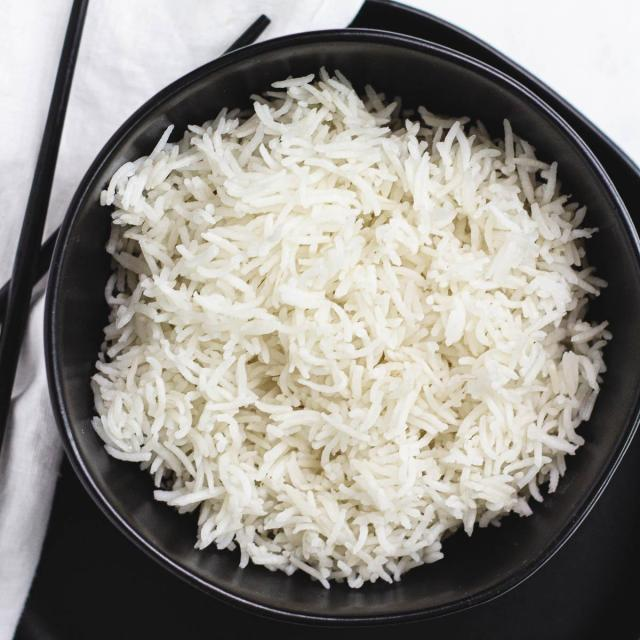rice: (97, 71, 612, 595)
